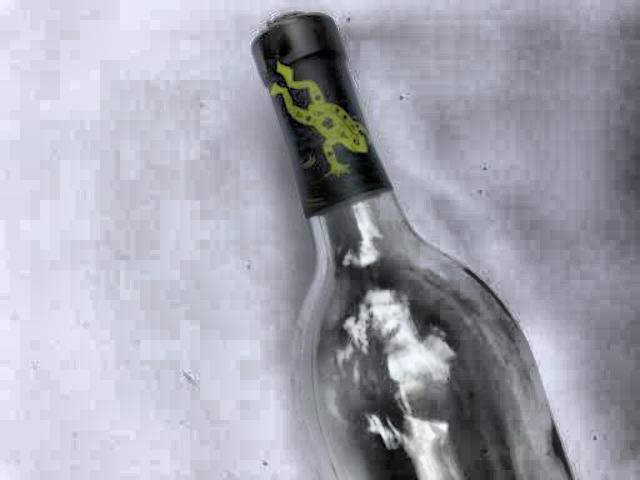Bottles: (234, 5, 599, 480)
